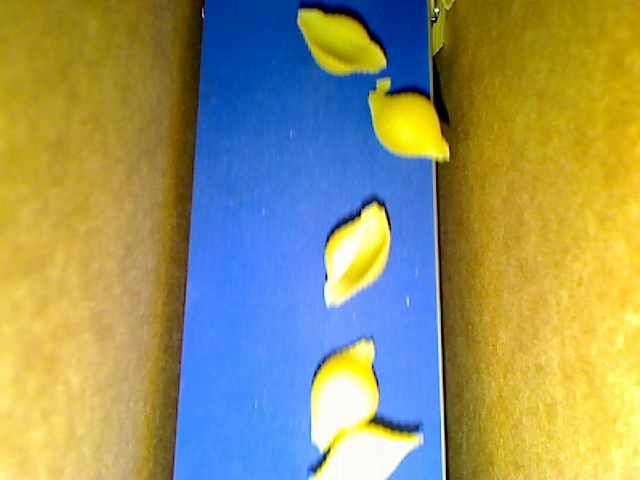penne: (431, 1, 444, 61), (440, 1, 454, 10)
shell: (306, 335, 382, 454), (318, 200, 391, 310), (296, 9, 388, 77), (367, 88, 448, 161), (310, 425, 423, 477)
